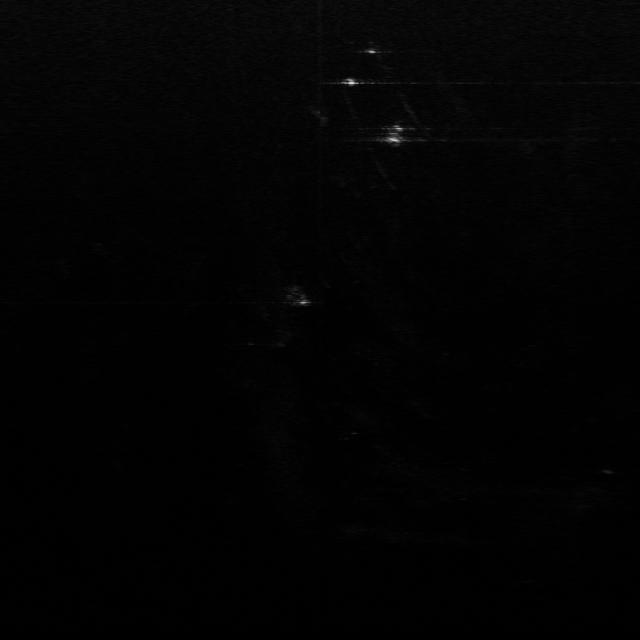rov: (378, 119, 412, 145)
